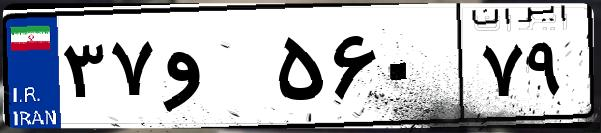0: (385, 28, 445, 110)
3: (57, 26, 110, 100)
5: (270, 28, 330, 110)
6: (330, 28, 385, 110)
7: (475, 38, 525, 113), (110, 28, 158, 98)
9: (525, 38, 570, 115)
و: (158, 20, 270, 120)
